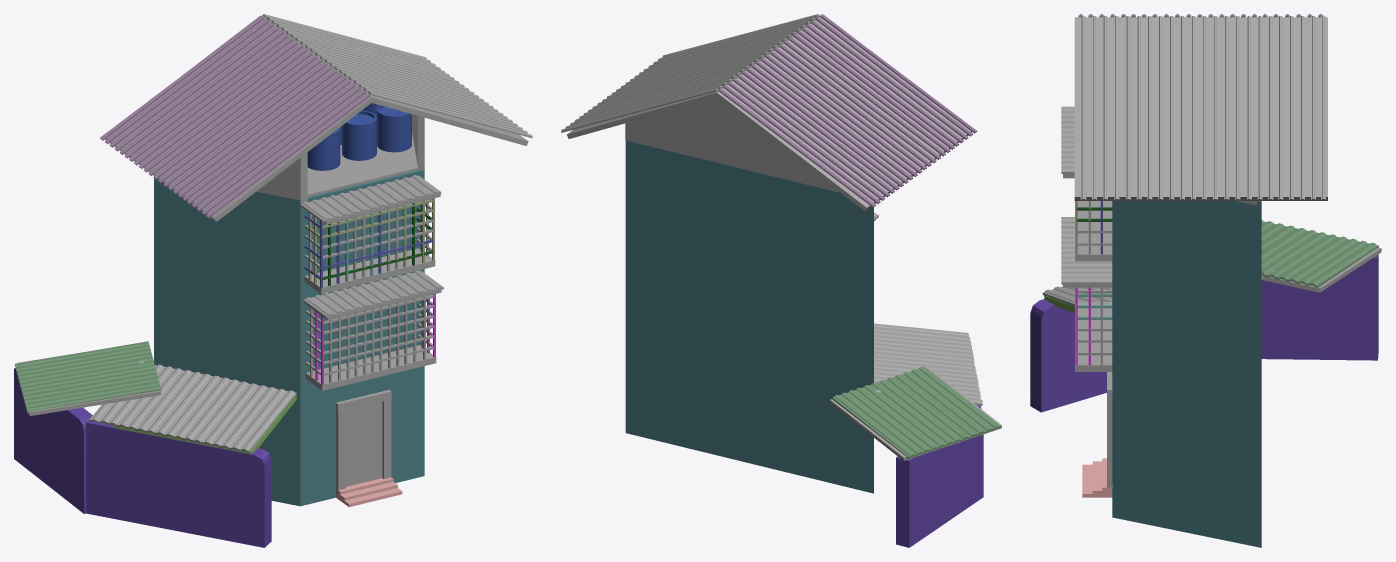
The model's file is house03.fbx.
The picture shows the model from 3 angles, left to right: view 1: azimuth 30°, elevation 25°; view 2: azimuth 150°, elevation 25°; view 3: azimuth 270°, elevation 25°; orthographic projection. The views are drawn at different scales.
Visible parts, largest first — view 1: wall, wall3_2, balcony5, balcony20, balcony10, balcony19, balcony6, water_2, balcony12, balcony15, balcony18, doorr (+16 smaller); view 2: wall, balcony5, balcony20, balcony6, balcony19, wall4_2, wall3_2, balcony10, balcony11; view 3: wall, balcony20, balcony19, wall3_2, balcony6, balcony12, balcony18, balcony15, balcony11, balcony10, door1, ground (+3 smaller).
Part boxes in pixels (box(x1,y1,x2,y2)): wall: box(154, 170, 424, 506); wall3_2: box(14, 368, 271, 547); balcony5: box(100, 15, 369, 218); balcony20: box(105, 16, 528, 221); balcony10: box(89, 361, 296, 452); balcony19: box(262, 14, 532, 137); balcony6: box(14, 341, 161, 413); water_2: box(307, 103, 411, 170); balcony12: box(304, 248, 436, 390); balcony15: box(300, 175, 441, 222); balcony18: box(303, 270, 443, 317); doorr: box(345, 401, 382, 486); wall: box(625, 140, 873, 493); balcony5: box(719, 14, 977, 207); balcony20: box(567, 14, 972, 211); balcony6: box(832, 366, 1000, 458); balcony19: box(561, 14, 819, 132); wall4_2: box(625, 98, 840, 192); wall3_2: box(896, 405, 983, 547); balcony10: box(874, 323, 982, 405); balcony11: box(829, 367, 1001, 460); wall: box(1112, 201, 1261, 547); balcony20: box(1074, 17, 1327, 200); balcony19: box(1080, 16, 1325, 200); wall3_2: box(1030, 254, 1378, 412); balcony6: box(1261, 220, 1378, 287); balcony12: box(1075, 201, 1112, 371); balcony18: box(1061, 217, 1112, 284); balcony15: box(1061, 106, 1074, 173); balcony11: box(1261, 247, 1381, 292); balcony10: box(1042, 269, 1275, 305); door1: box(1107, 372, 1111, 487); ground: box(1092, 458, 1112, 494).
Size of the model in its own units: 1127 by 1030 by 706.
